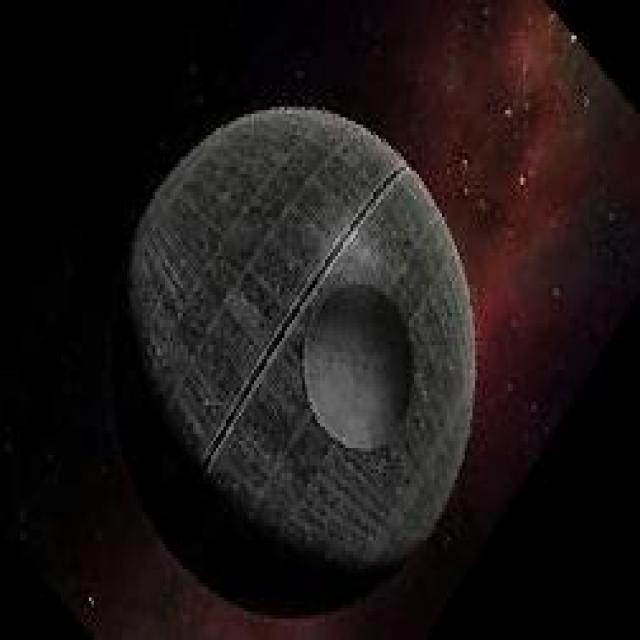Death Star: (120, 96, 482, 587)
